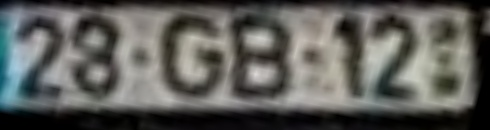1: (331, 11, 371, 108)
2: (366, 10, 427, 108), (12, 13, 68, 106)
8: (68, 13, 126, 105)
B: (227, 14, 298, 108)
G: (157, 14, 230, 104)
